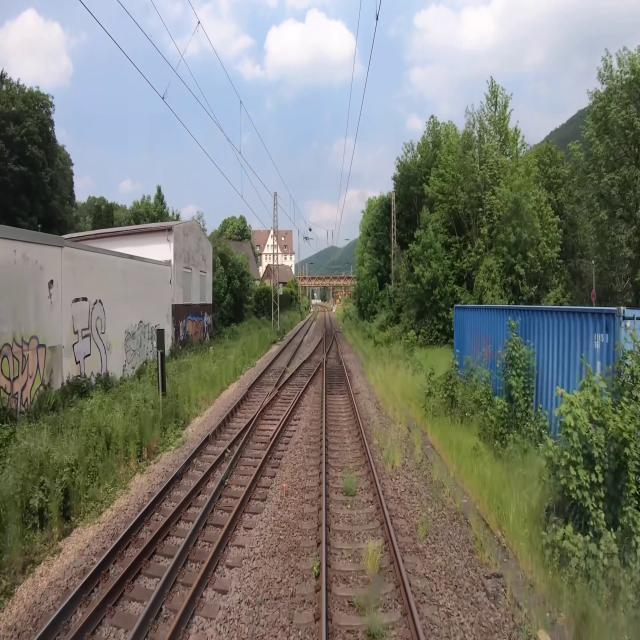Plant: (470, 509, 562, 639), (336, 314, 412, 431), (426, 454, 465, 516), (349, 579, 388, 639), (371, 423, 408, 475), (362, 534, 385, 580), (339, 468, 360, 499), (415, 512, 434, 545), (410, 428, 426, 466), (166, 429, 190, 452), (311, 553, 323, 582), (284, 364, 290, 374)
